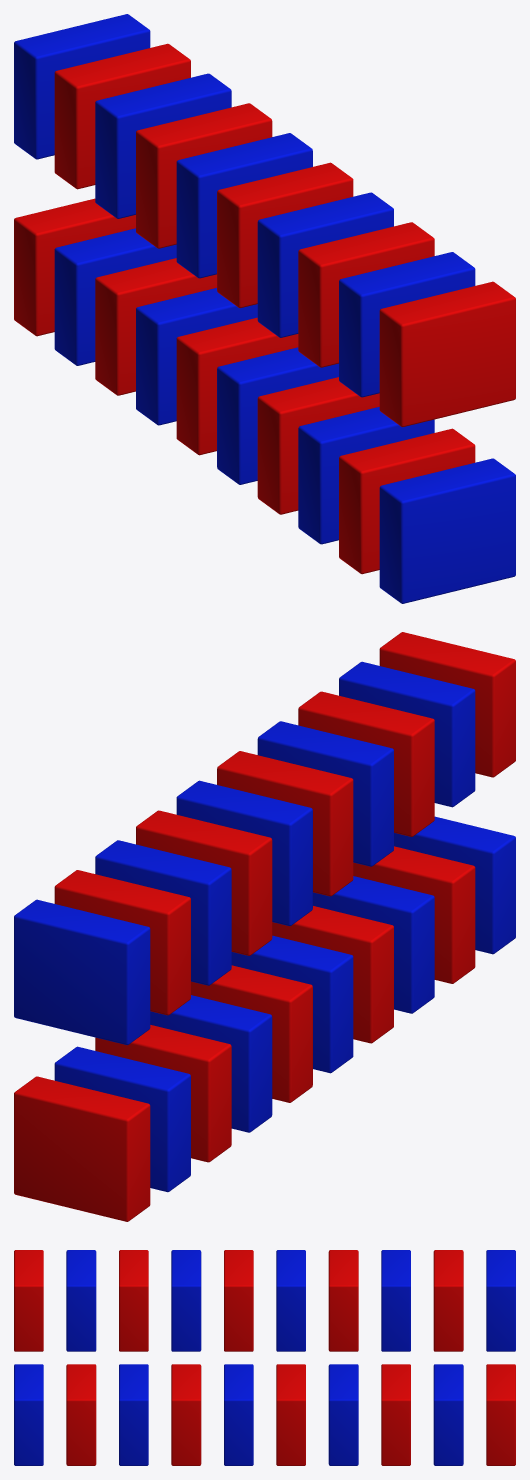
The model's file is Undulator.glb.
The picture shows the model from 3 angles, top to bottom: view 1: azimuth 30°, elevation 25°; view 2: azimuth 150°, elevation 25°; view 3: azimuth 270°, elevation 25°; orthographic projection. The views are drawn at different scales.
Visible parts, largest first — view 1: Cube.003, Cube.001; view 2: Cube.001, Cube.003; view 3: Cube.001, Cube.003.
Part boxes in pixels (left/top/right/bottom): Cube.003: left=14, top=14, right=515, bottom=603; Cube.001: left=14, top=43, right=515, bottom=574; Cube.001: left=14, top=632, right=515, bottom=1221; Cube.003: left=14, top=661, right=515, bottom=1192; Cube.001: left=14, top=1250, right=515, bottom=1465; Cube.003: left=14, top=1250, right=515, bottom=1465.
Bounding box in the file's own units: 0.8183 × 1.9 × 4.78.
